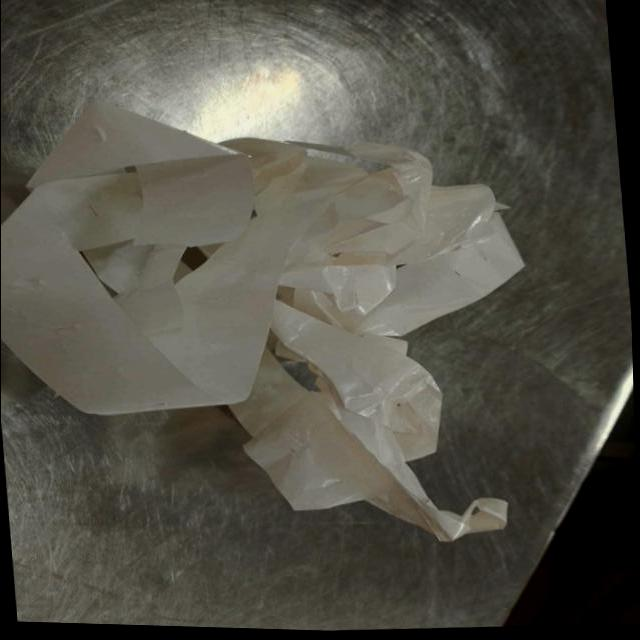Infectious: (2, 100, 526, 544)
